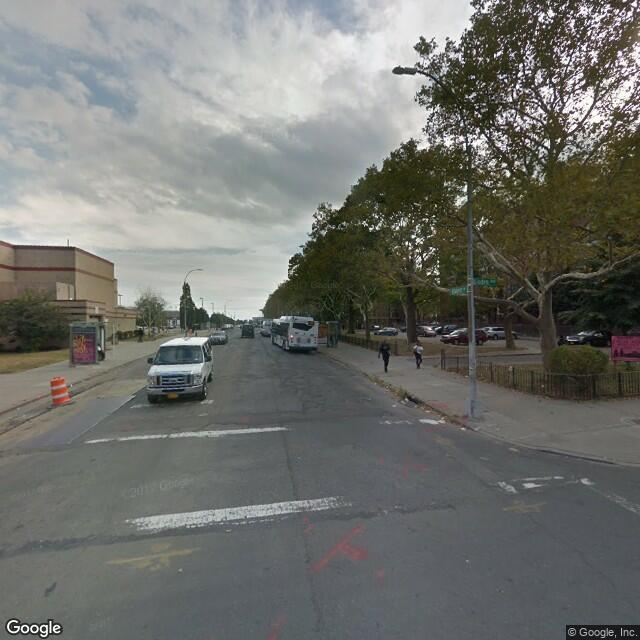litter: (387, 400, 401, 410), (399, 395, 413, 404), (423, 407, 433, 417), (462, 425, 472, 434), (538, 382, 547, 390)
